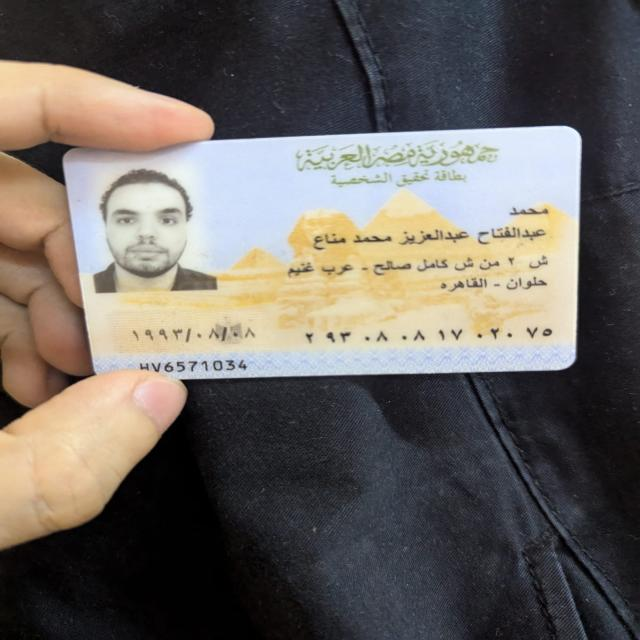ID-cards: (57, 120, 596, 389)
